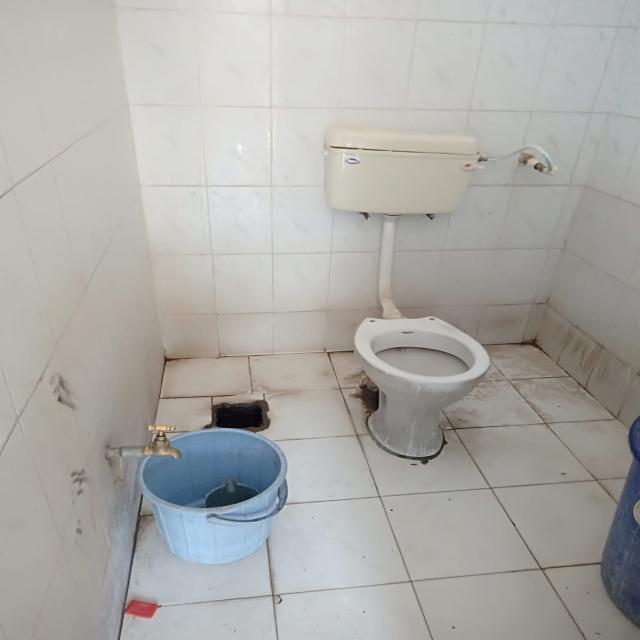dirty_floor: (2, 1, 637, 637), (120, 341, 637, 638)
